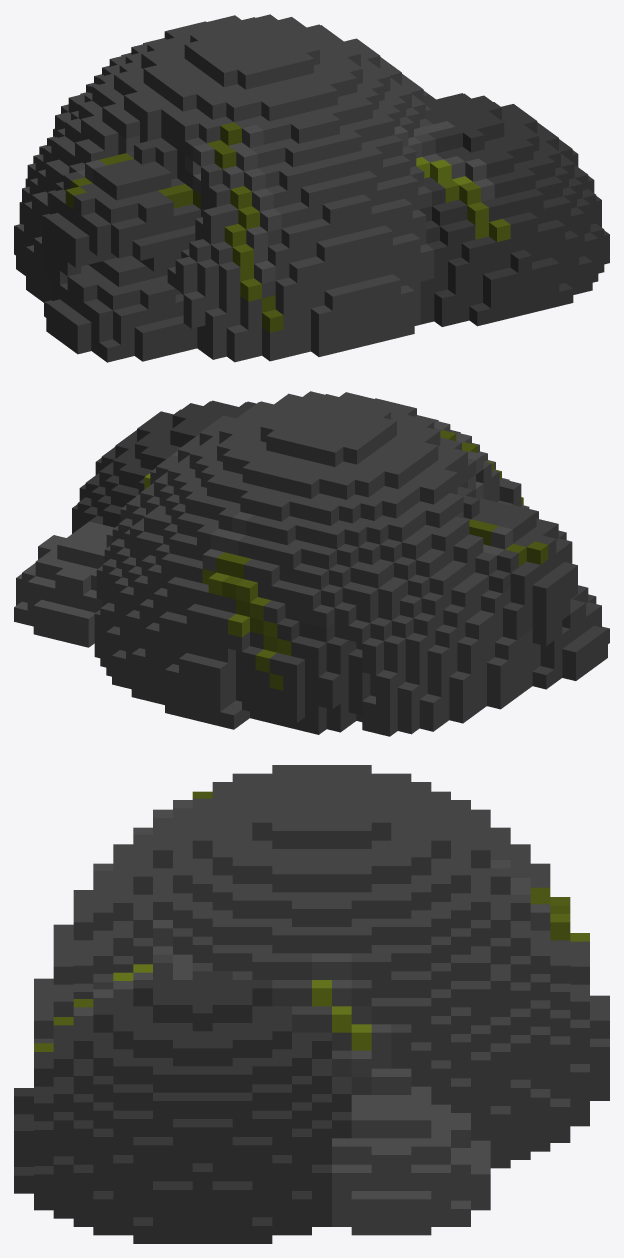
Rendered from ROCK 1.obj.
The picture shows the model from 3 angles, top to bottom: view 1: azimuth 30°, elevation 25°; view 2: azimuth 150°, elevation 25°; view 3: azimuth 270°, elevation 25°; orthographic projection. The views are drawn at different scales.
Bounding box in the file's own units: 3.7 × 1.5 × 3.
